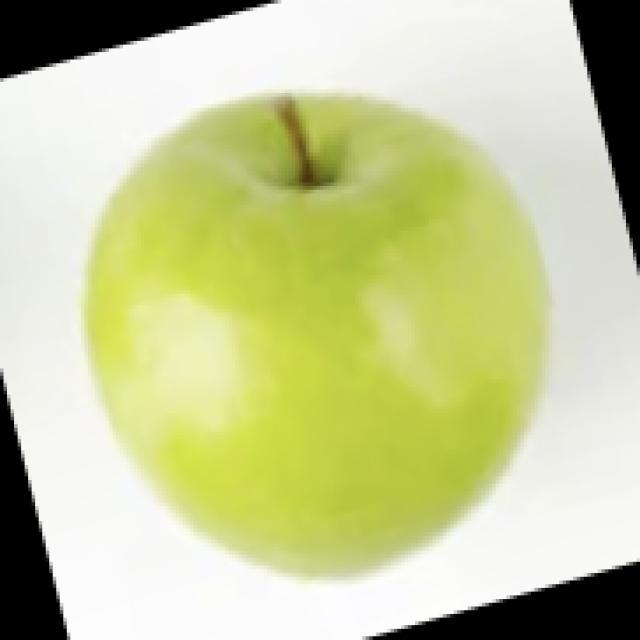Apple: (81, 88, 551, 582)
